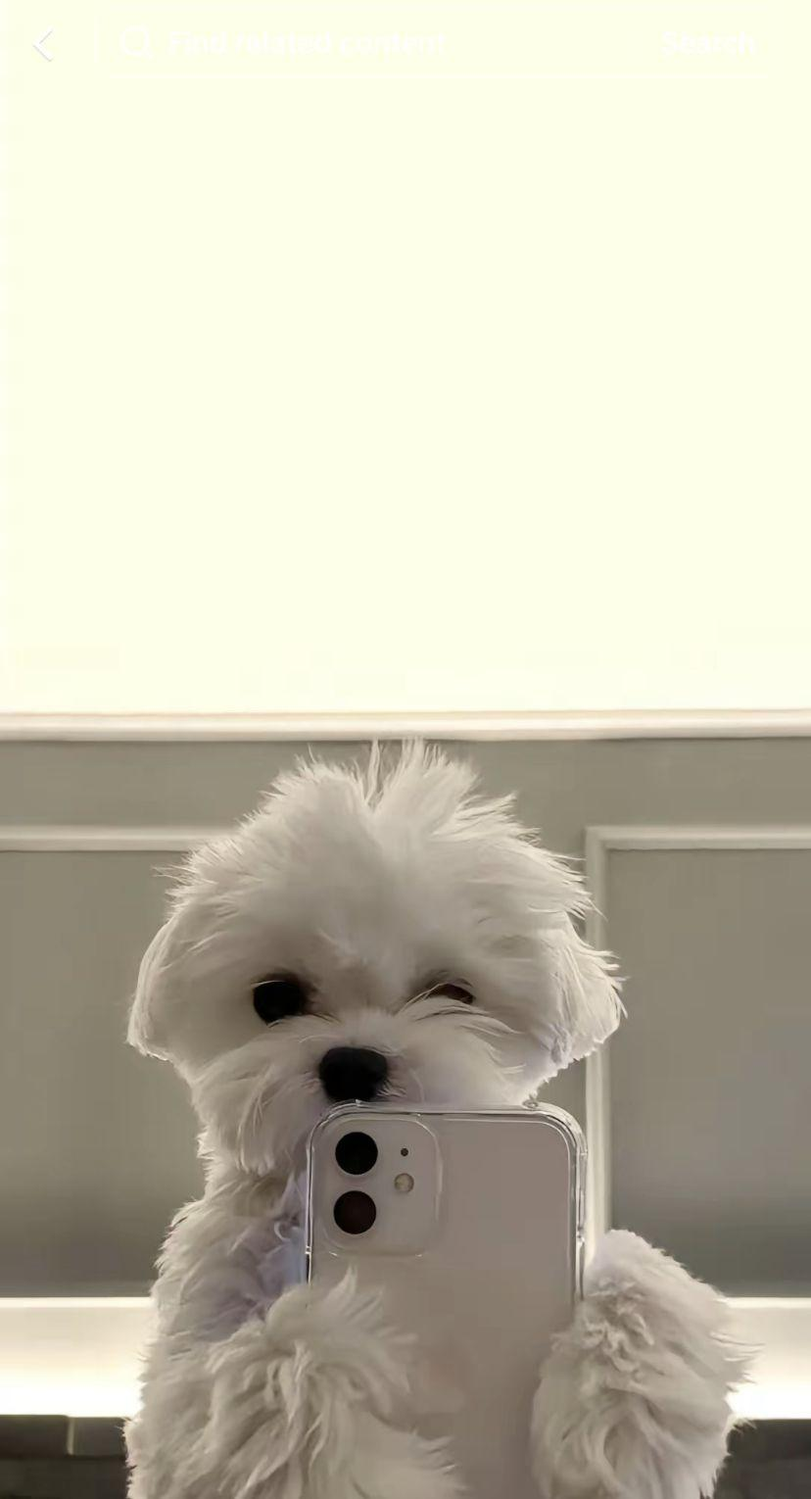adult_dog: (120, 743, 757, 1499)
